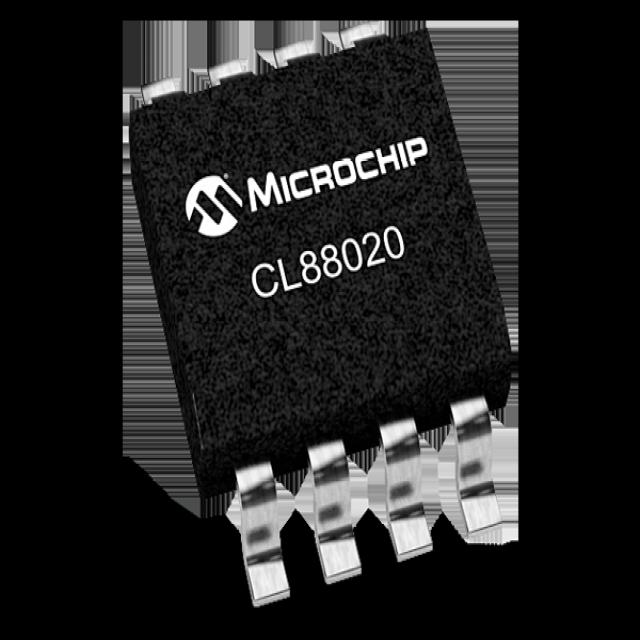IC: (129, 23, 512, 600)
